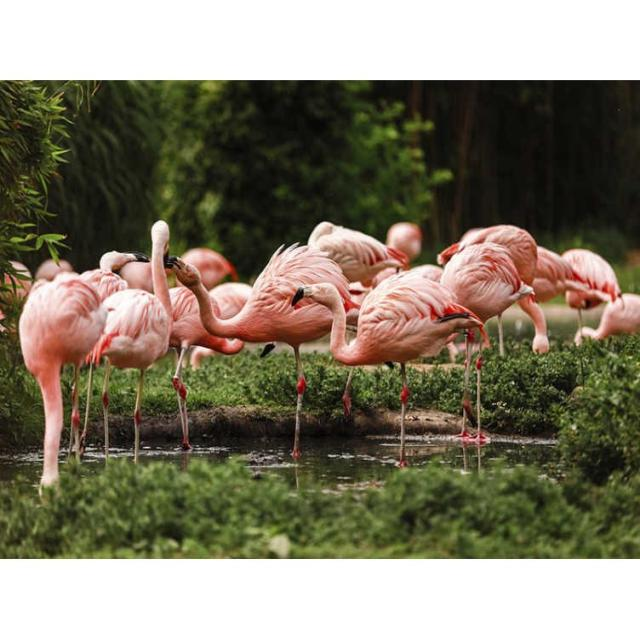Flamingo: (163, 252, 348, 460), (291, 272, 477, 467), (14, 274, 105, 494), (100, 216, 175, 462)
